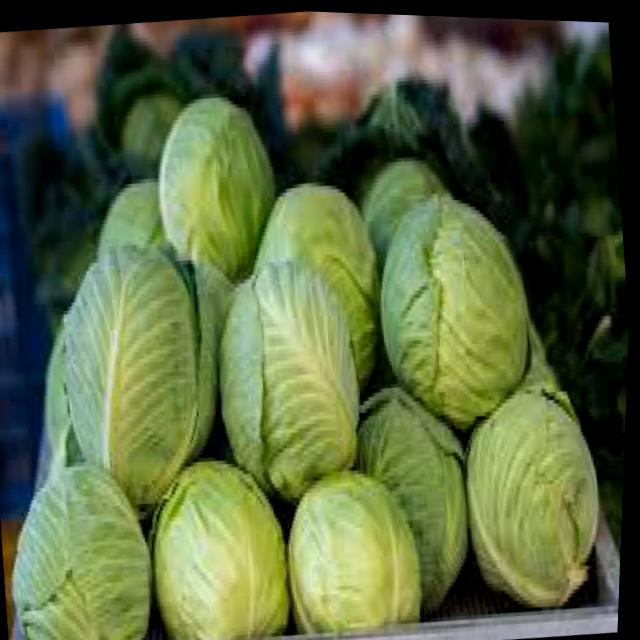Cabbage: (48, 226, 240, 512), (365, 182, 545, 432), (208, 246, 376, 504), (454, 369, 616, 614), (347, 377, 487, 620), (242, 169, 396, 388), (1, 455, 167, 640), (143, 447, 302, 640), (148, 82, 288, 284), (282, 457, 432, 637)
